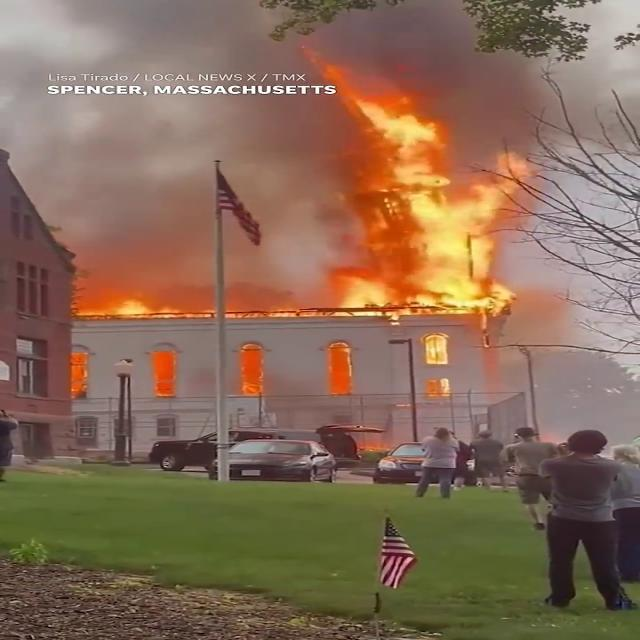Fire: (307, 90, 549, 322)
Smoke: (1, 0, 342, 278), (0, 0, 592, 156)
